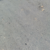others: (2, 1, 49, 39)
